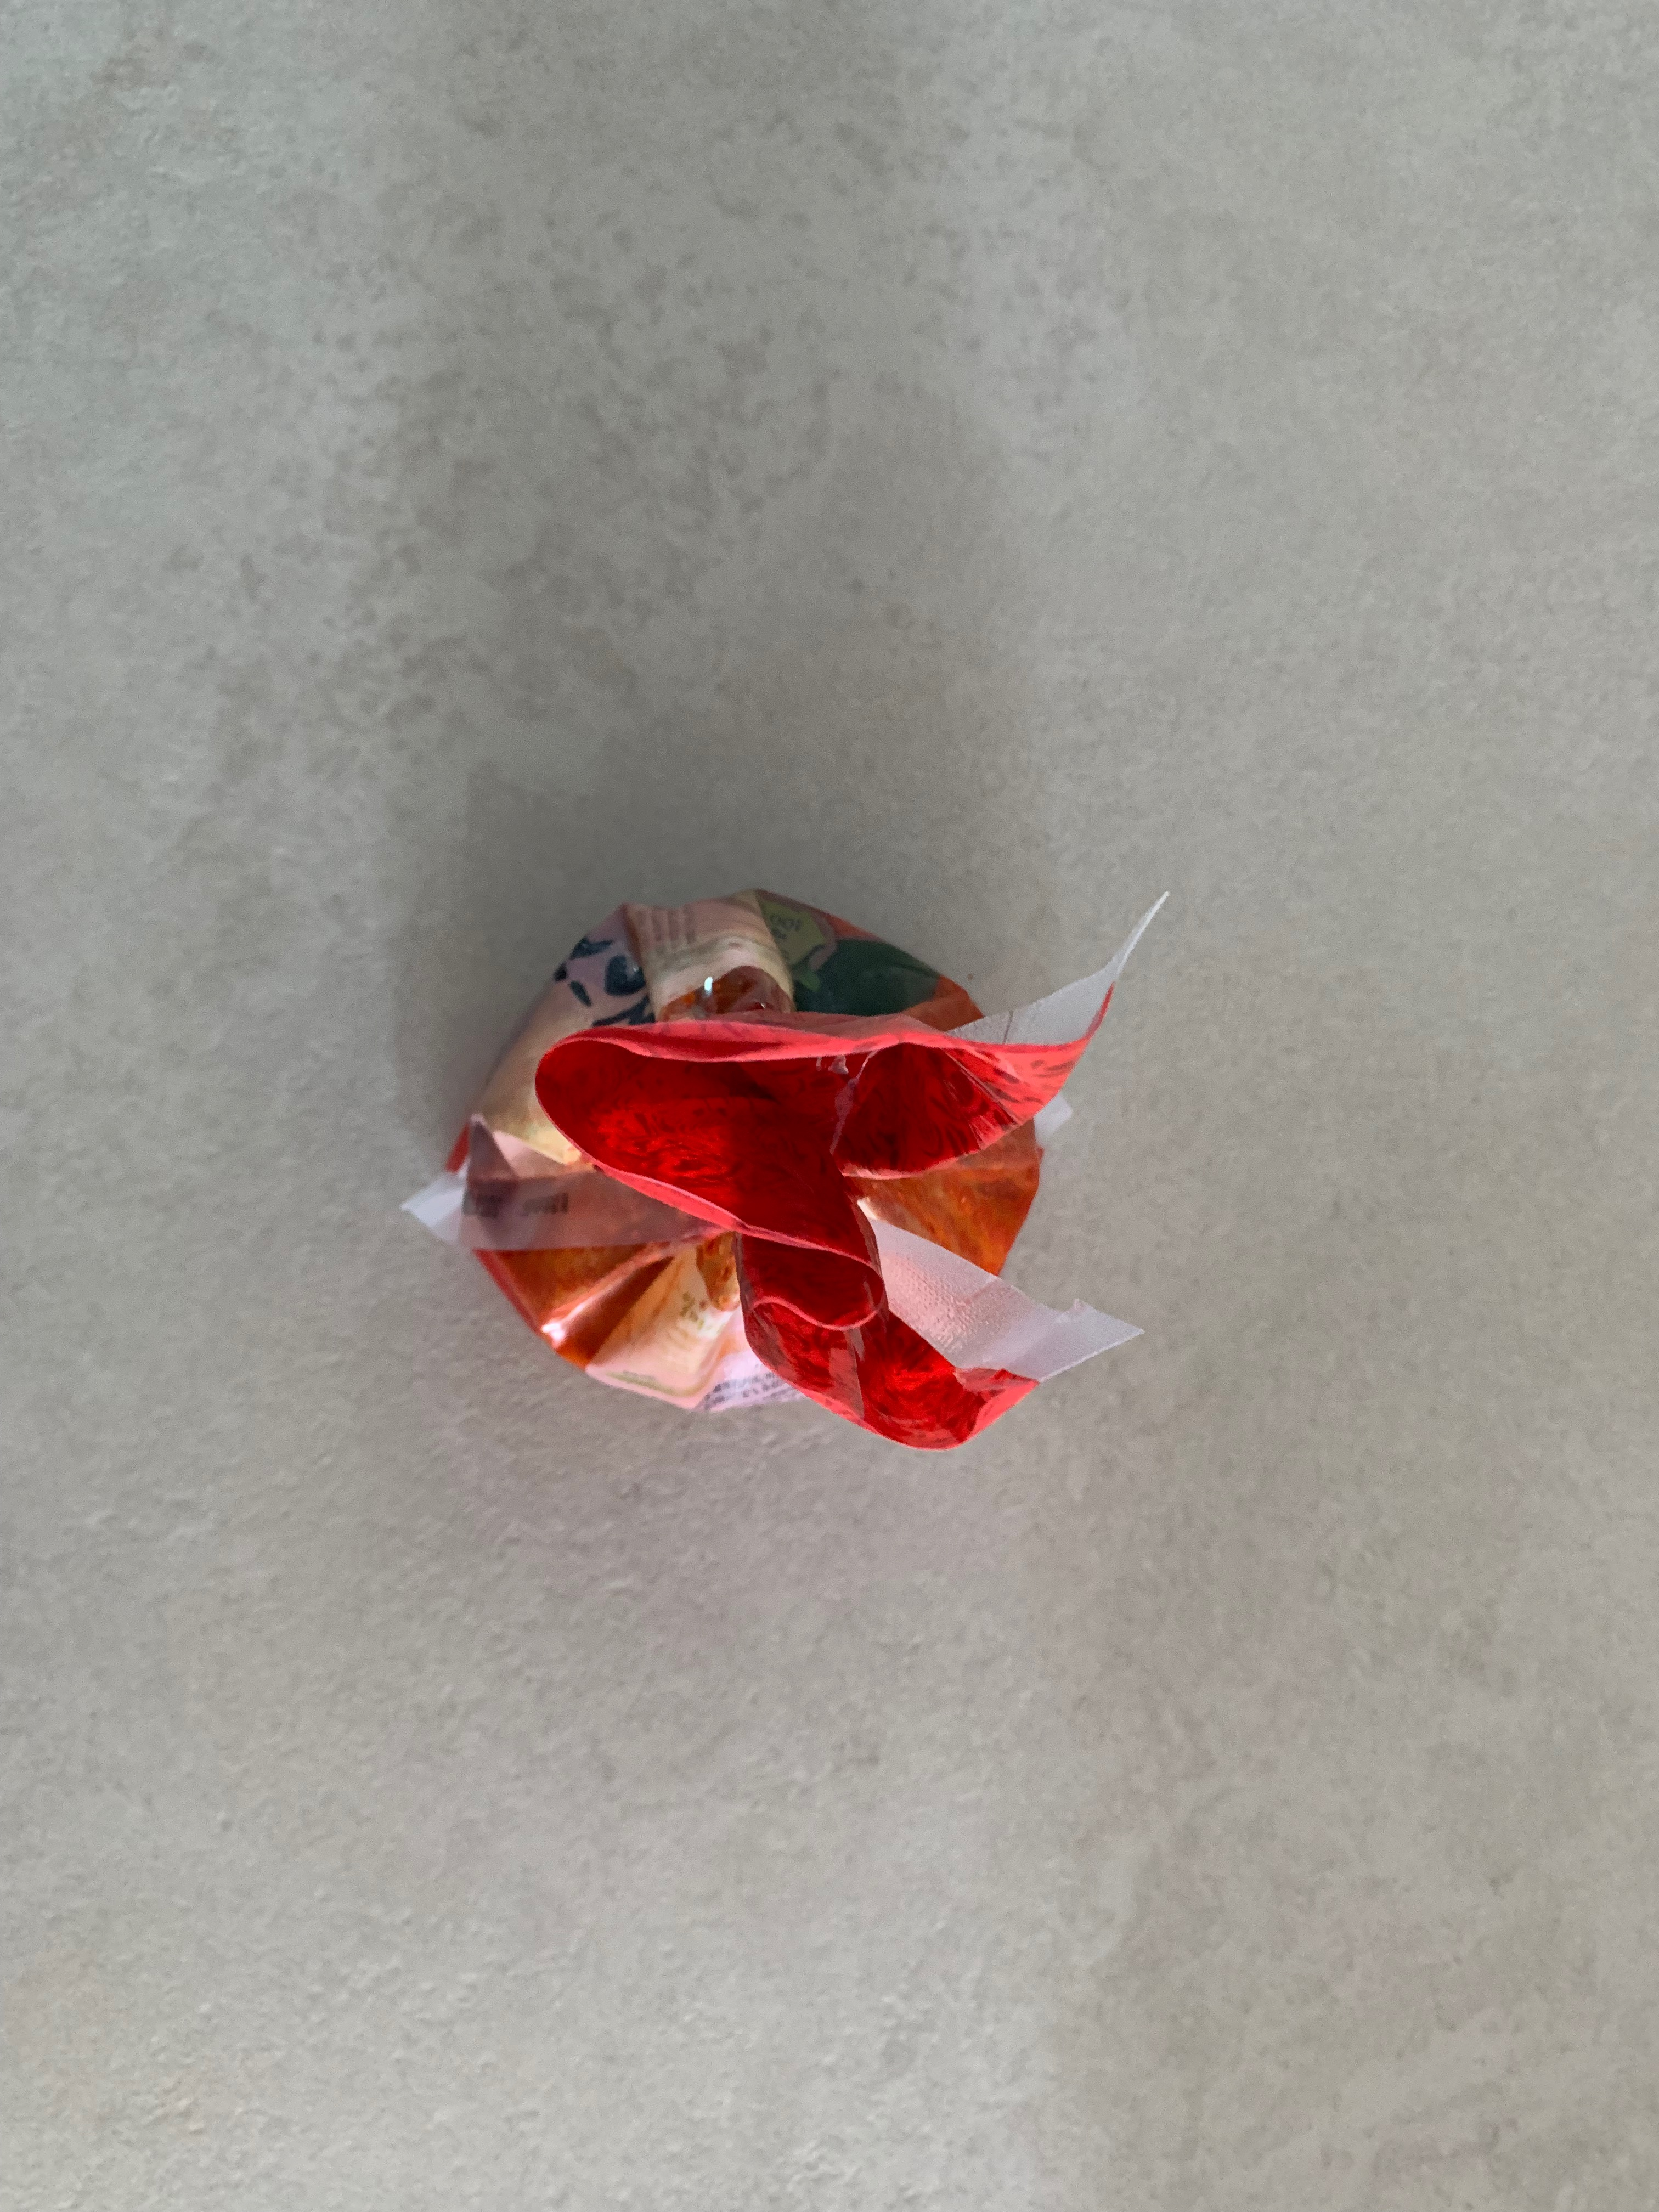kimchi: (467, 890, 1049, 1454)
